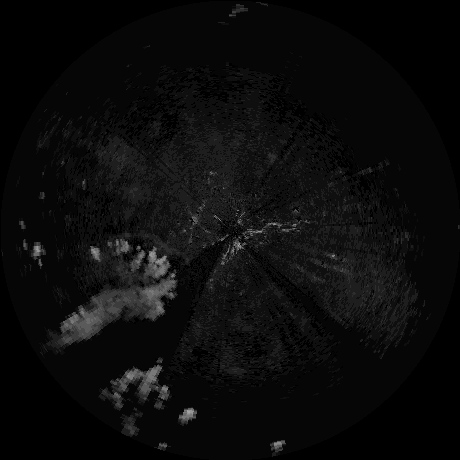frontgust: (126, 232, 187, 257)
